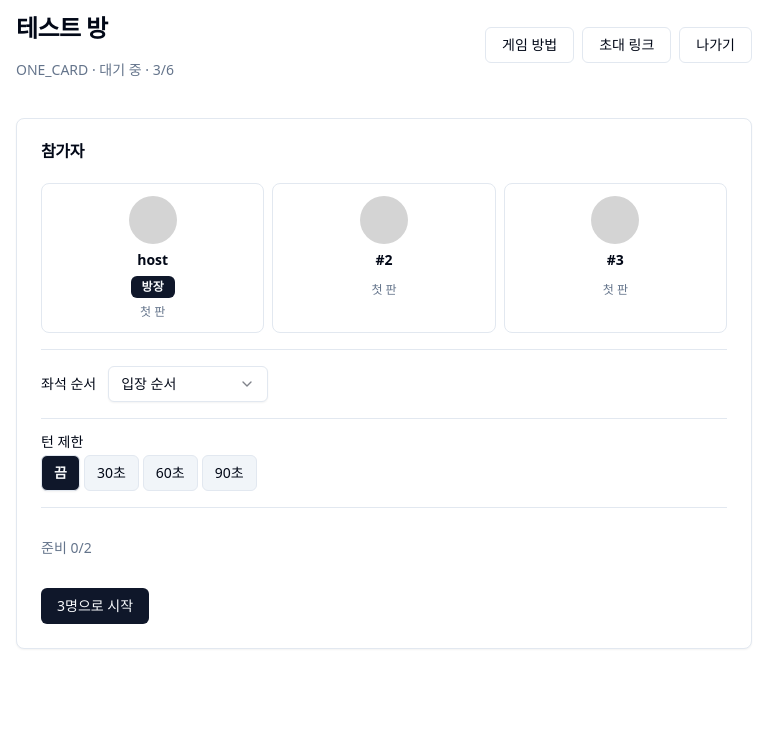
Test: RoomPage — 방장 시작 (D-143) › 네트워크 오류도 알린다
Click the button "3명으로 시작".
click(95, 606)  # box [41,588,149,624]
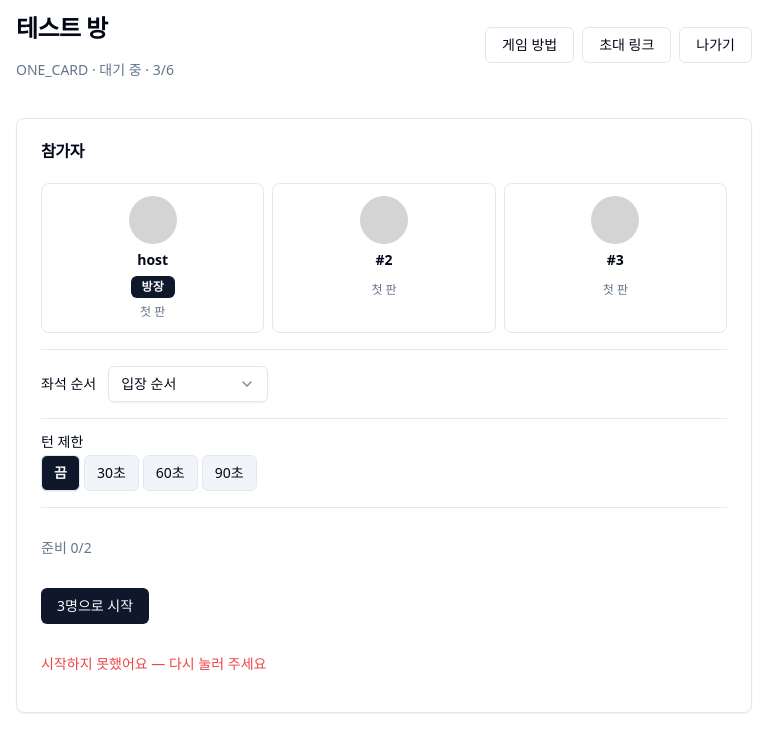
Expected: the text "시작하지 못했어요 — 다시 눌러 주세요" is shown, [41,654,266,673]
